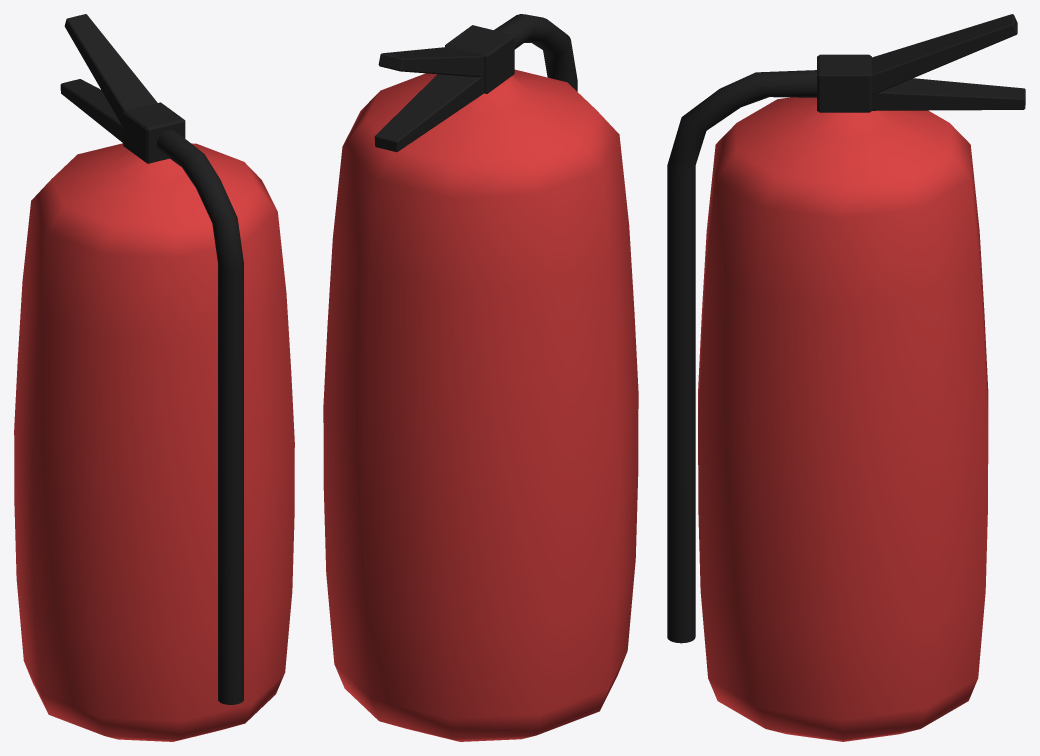
The model's file is Fire_extinguisher (updated).fbx.
The picture shows the model from 3 angles, left to right: view 1: azimuth 30°, elevation 25°; view 2: azimuth 150°, elevation 25°; view 3: azimuth 270°, elevation 25°; orthographic projection. The views are drawn at different scales.
Visible parts, largest first — view 1: Fire_extinguisher; view 2: Fire_extinguisher; view 3: Fire_extinguisher.
Boxes of the visible parts, x1,y1,x2,y2 form: Fire_extinguisher: (14, 14, 294, 741); Fire_extinguisher: (323, 14, 638, 741); Fire_extinguisher: (667, 14, 1025, 741).
Size of the model in its own units: 83.68 by 207 by 98.34.
